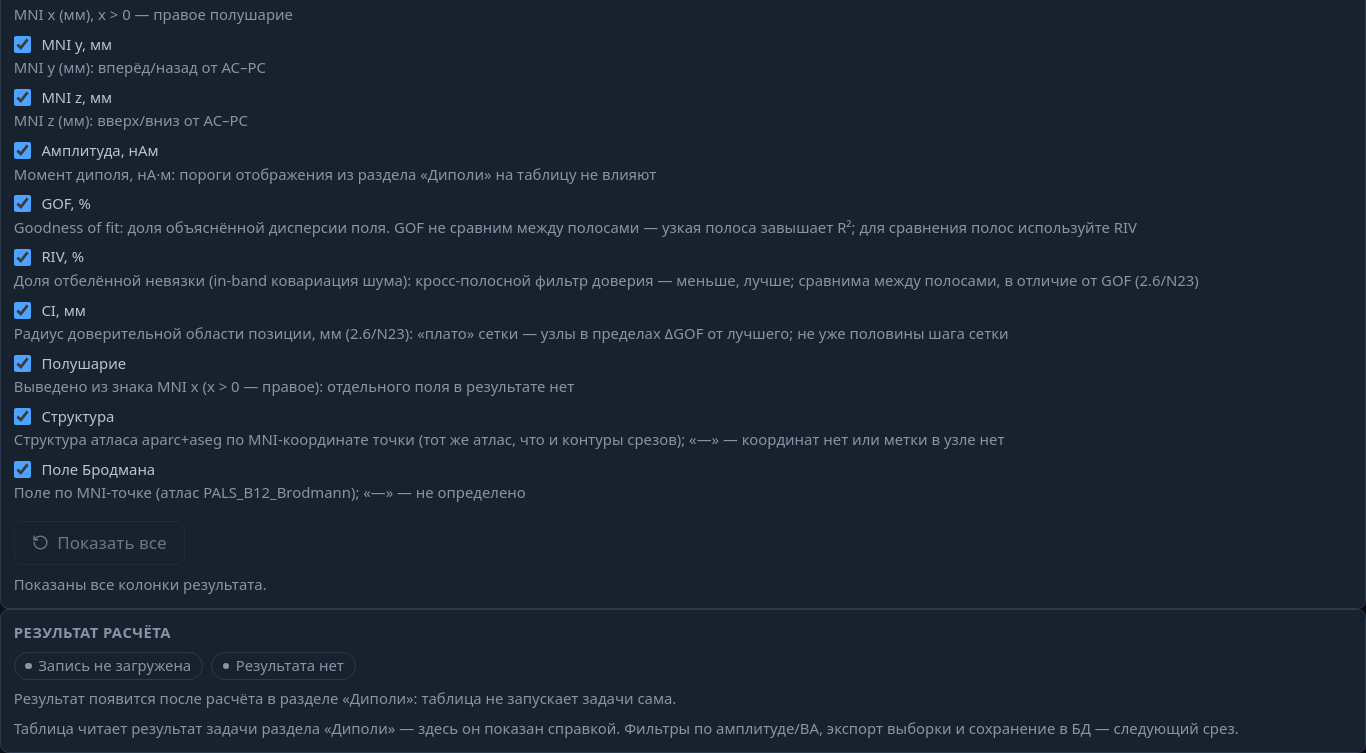
Test case: панель раздела «Таблица локализации» › «Показать все» доступно только при скрытых колонках
(page scrolled)
Expected: the button "Показать все" is disabled, x1=14 y1=520 x2=185 y2=565
Click the checkbox labelled "Поле Бродмана".
click(22, 470)  # box x1=14 y1=461 x2=31 y2=478
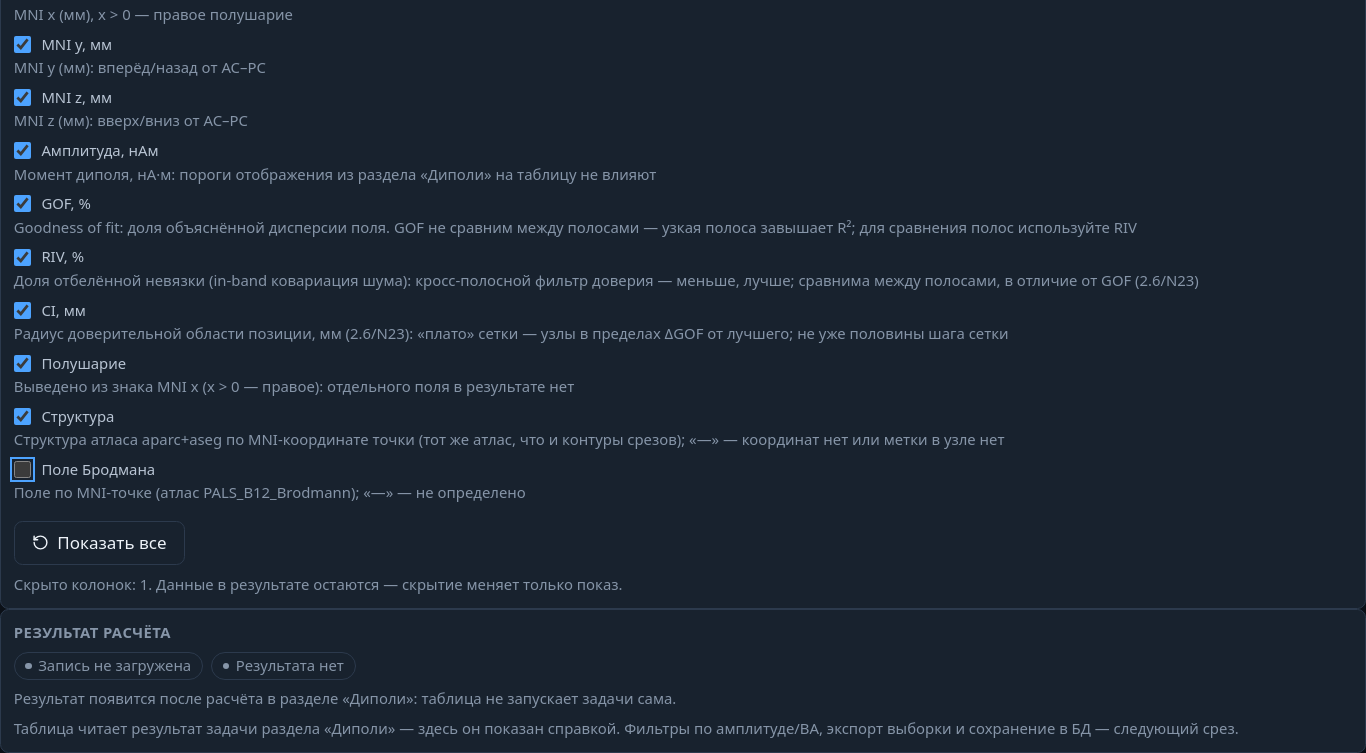
Expected: the checkbox labelled "Поле Бродмана" is not checked, x1=14 y1=461 x2=31 y2=478
Expected: the text "Скрыто колонок: 1" is shown, x1=14 y1=574 x2=623 y2=594
Click the button "Показать все".
click(99, 543)  # box x1=14 y1=520 x2=185 y2=565
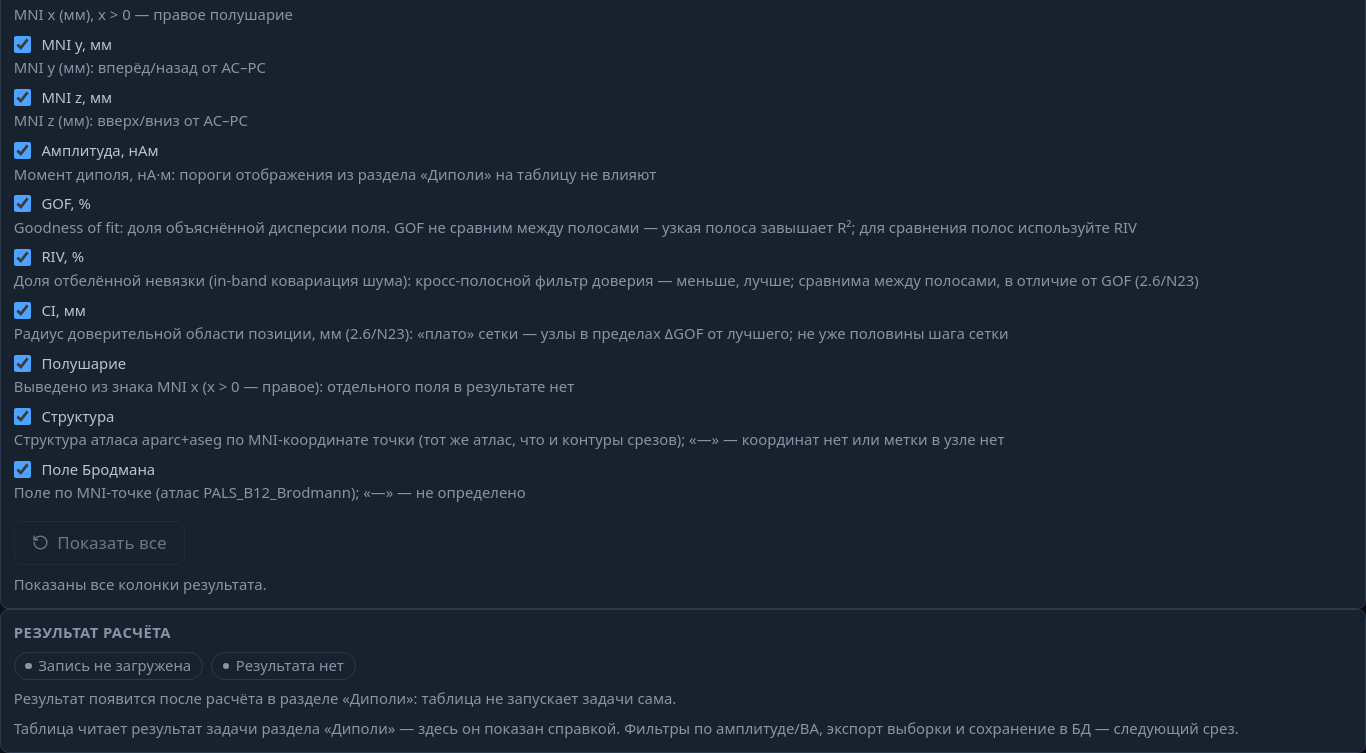
Expected: the checkbox labelled "Поле Бродмана" is checked, x1=14 y1=461 x2=31 y2=478
Expected: the button "Показать все" is disabled, x1=14 y1=520 x2=185 y2=565
